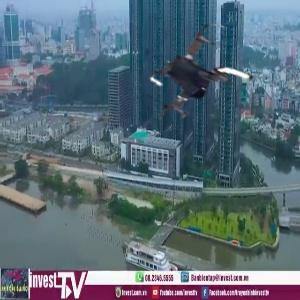drone: (141, 20, 269, 148)
